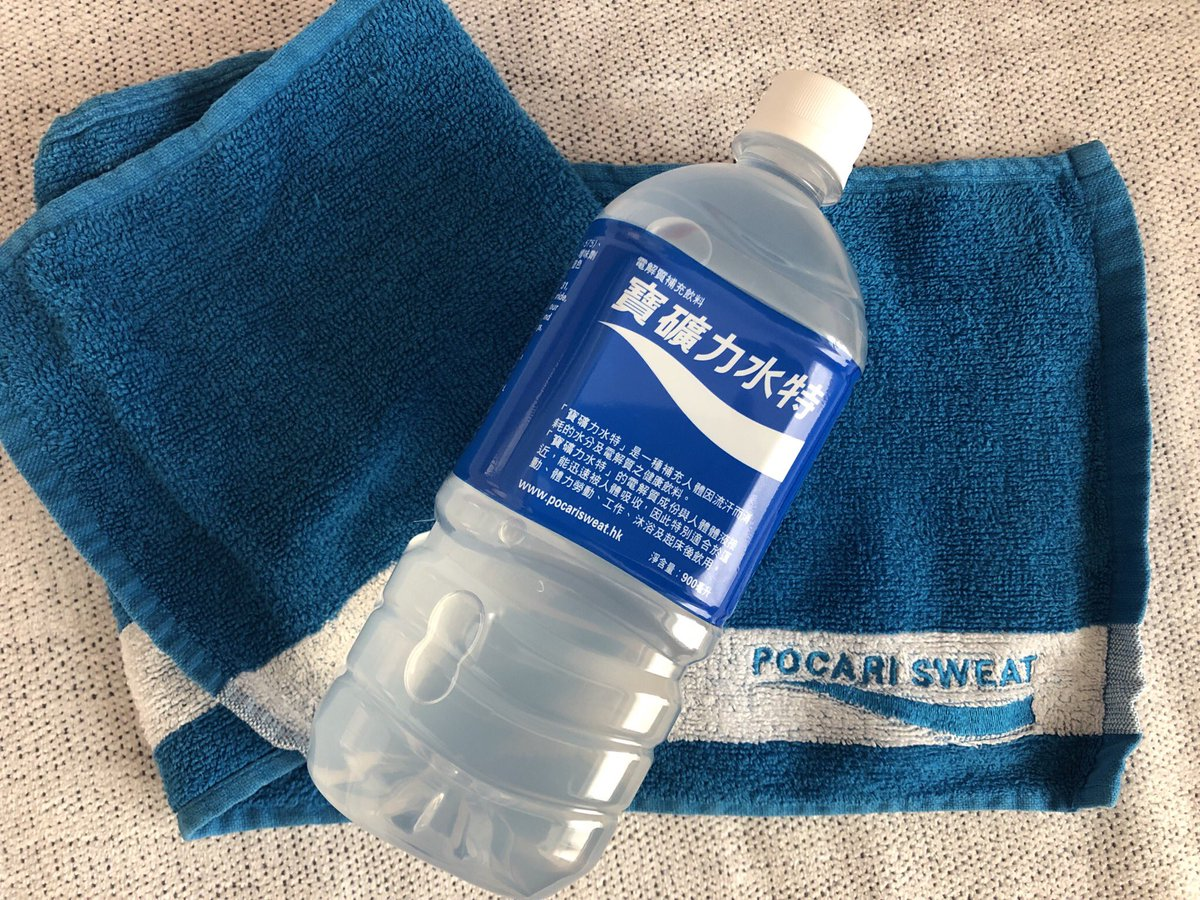POCARI SWEAT: (292, 40, 879, 900)
